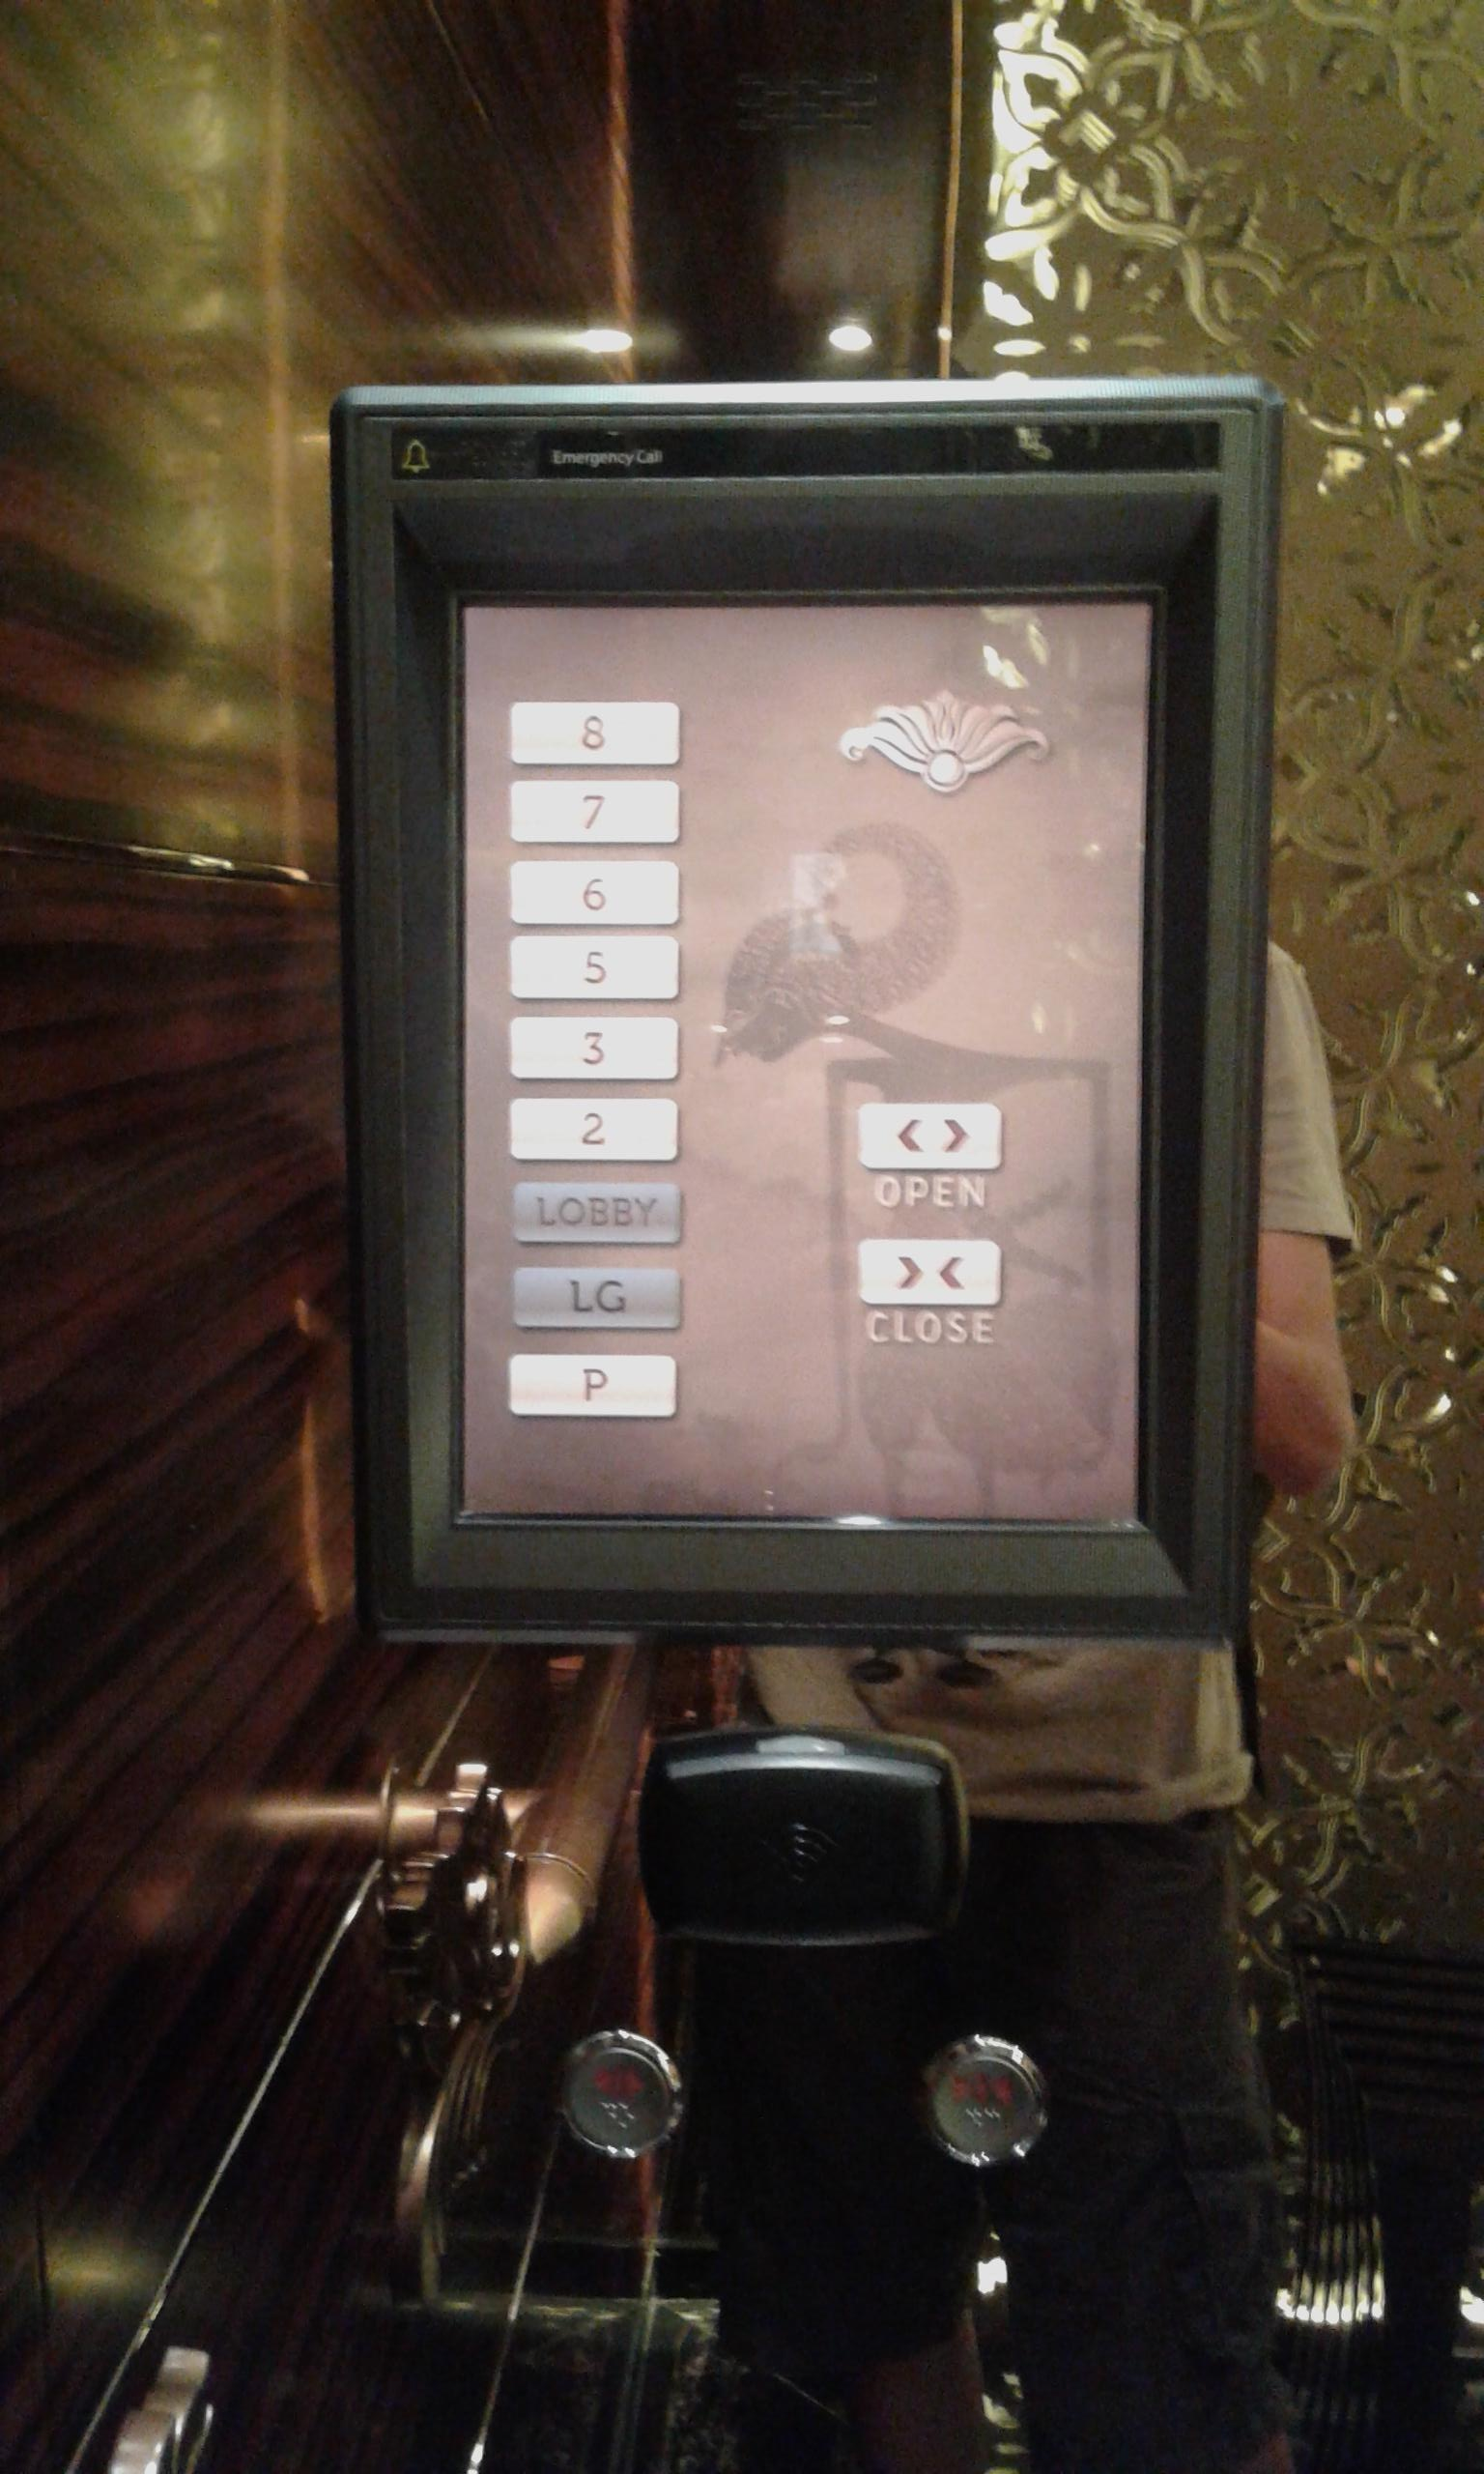2: (502, 1090, 682, 1165)
3: (503, 1007, 684, 1081)
5: (507, 930, 685, 1004)
6: (505, 854, 685, 928)
7: (503, 774, 684, 848)
8: (505, 694, 685, 769)
LG: (509, 1258, 687, 1332)
P: (503, 1347, 684, 1421)
close: (848, 1232, 1009, 1309)
open: (850, 1097, 1011, 1175)
text_lobby: (505, 1173, 685, 1249)
